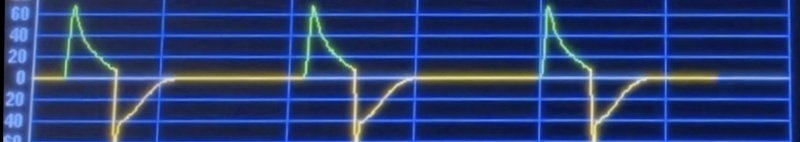normal_flow: (53, 2, 656, 142)
